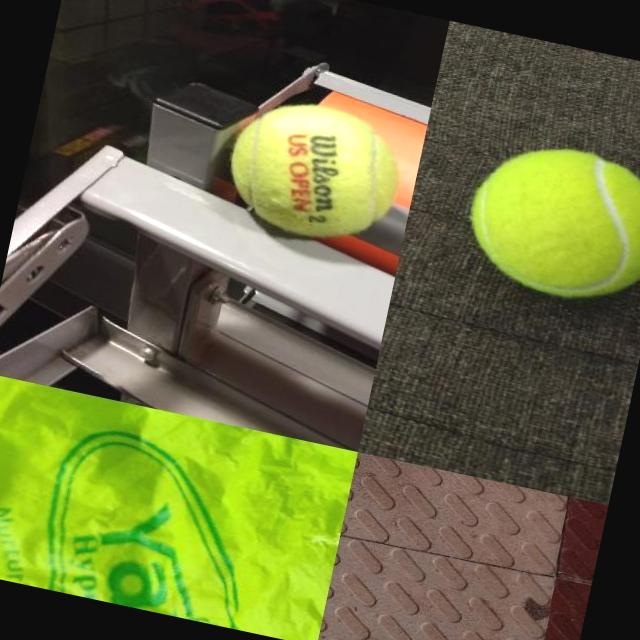tennis-ball: (455, 130, 640, 315), (218, 89, 412, 255)
